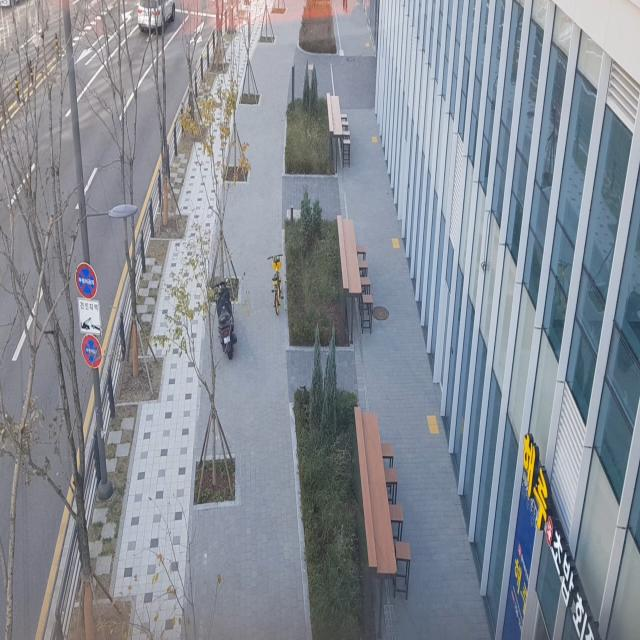Car: (127, 0, 182, 36)
